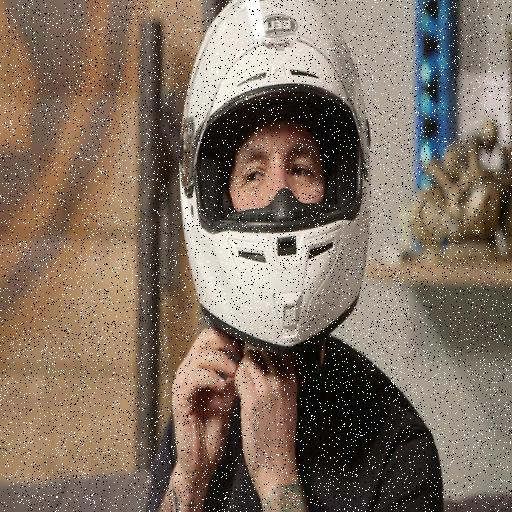Helmet: (172, 0, 390, 349)
